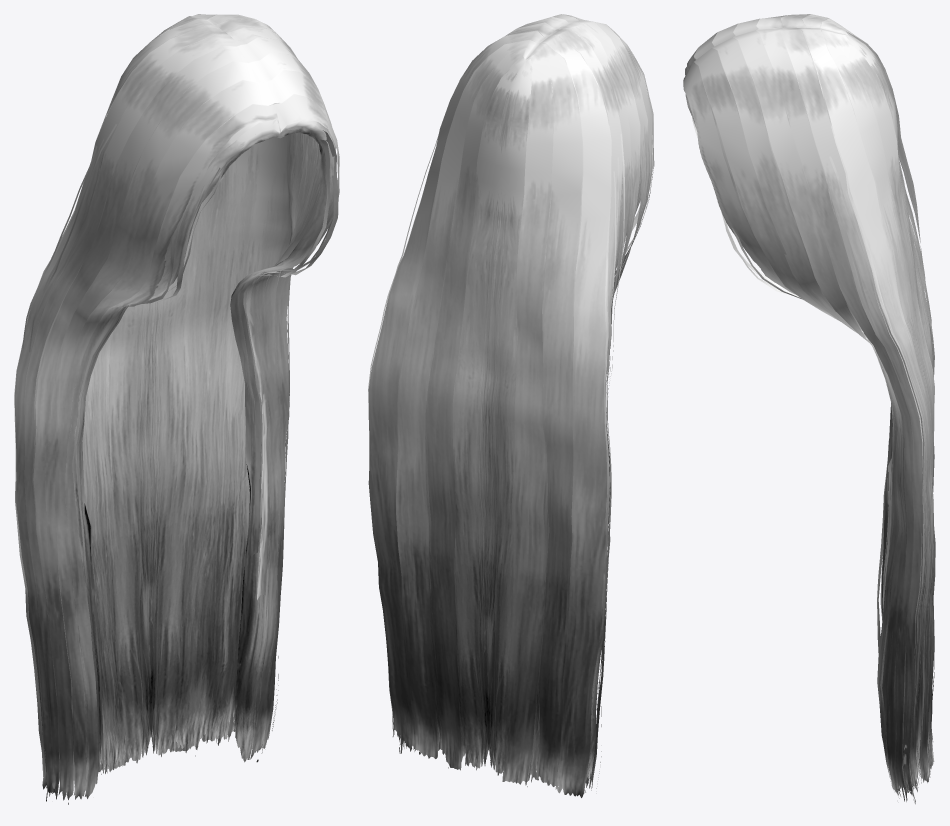
Rendered from long.glb.
3 renders of one model, left to right at view 1: azimuth 30°, elevation 25°; view 2: azimuth 150°, elevation 25°; view 3: azimuth 270°, elevation 25°, orthographic. The views are drawn at different scales.
Parts seen in each view (by area): view 1: Hair; view 2: Hair; view 3: Hair.
Part boxes in pixels (x1=…): Hair: x1=14, y1=14, x2=339, y2=804; Hair: x1=368, y1=14, x2=654, y2=797; Hair: x1=683, y1=14, x2=935, y2=804.
Bounding box in the file's own units: 0.2682 × 0.7593 × 0.2331.
Materials: 1 (1 with a texture image).
